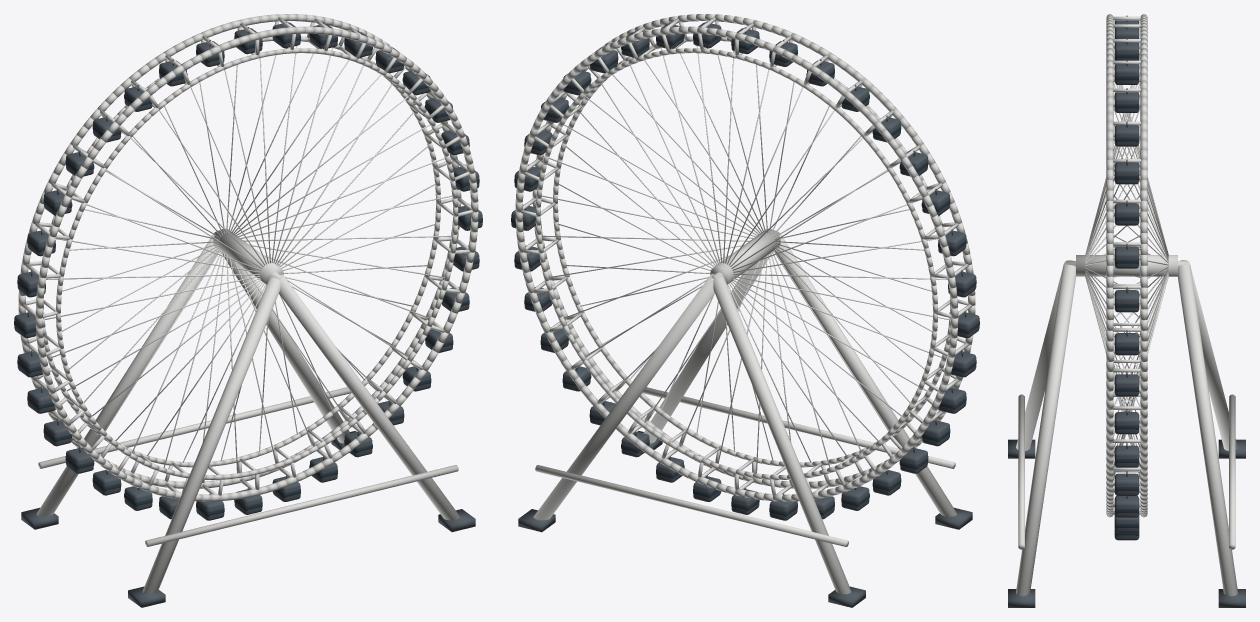
The model's file is roda-gigante-generica.glb.
3 views of the same model, side by side, from view 1: azimuth 30°, elevation 25°; view 2: azimuth 150°, elevation 25°; view 3: azimuth 270°, elevation 25° (orthographic).
Parts seen in each view (by area): view 1: dn_roda_gigante; view 2: dn_roda_gigante; view 3: dn_roda_gigante.
Boxes of the visible parts, x1,y1,x2,y2 form: dn_roda_gigante: [14, 14, 482, 607]; dn_roda_gigante: [511, 14, 979, 607]; dn_roda_gigante: [1008, 14, 1245, 607].
Size of the model in its own units: 76.86 by 80.11 by 35.
